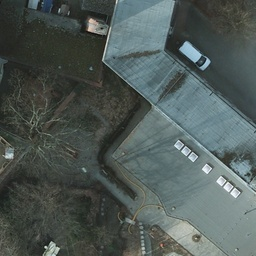car: (180, 44, 210, 70)
